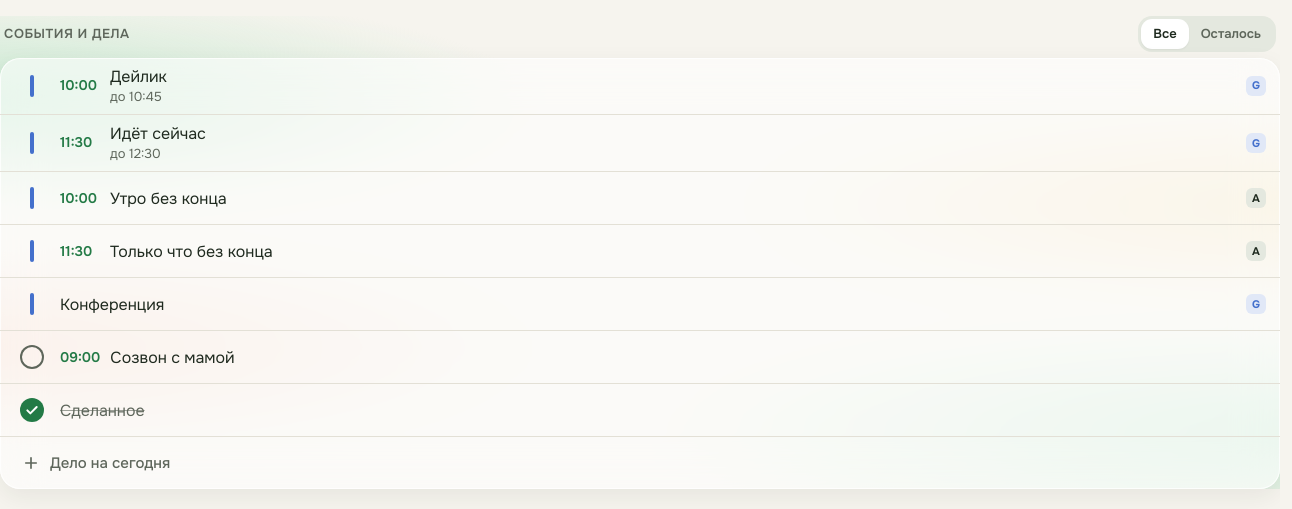
Test: «Все · Осталось» › прошедшие события из календаря уходят; идущие, «на весь день» и свои несделанные — остаются
Click the button "Осталось" at (1231, 34), box [1189,19,1273,49]
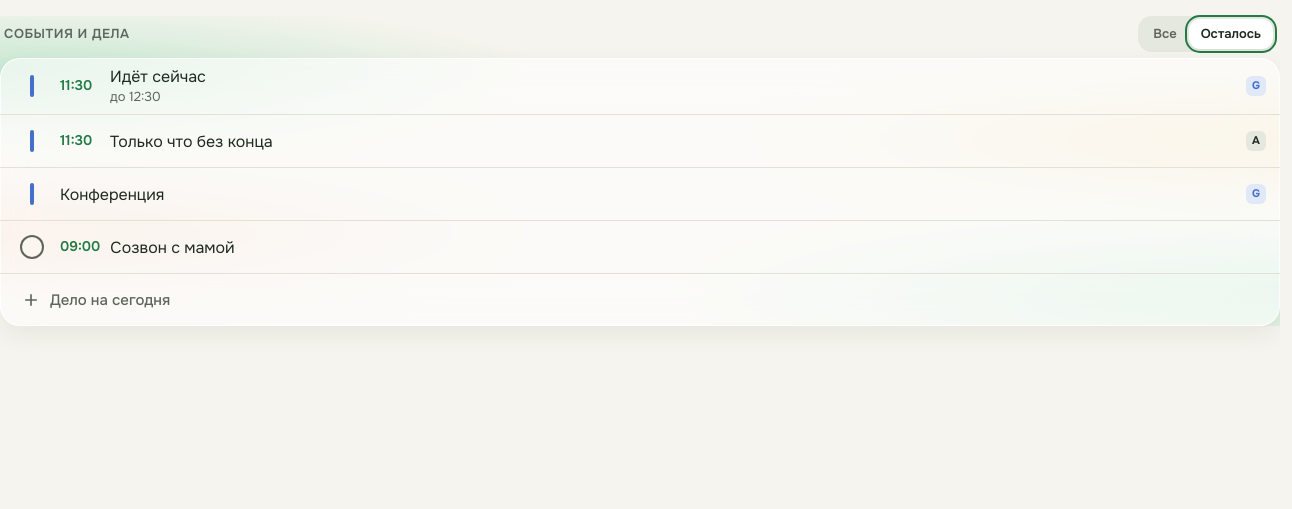
Expected: the text "Идёт сейчас" is shown, [110,66,206,87]
Expected: the text "Только что без конца" is shown, [110,131,273,152]
Click the button "Все" at (1165, 34), box [1141,19,1189,49]
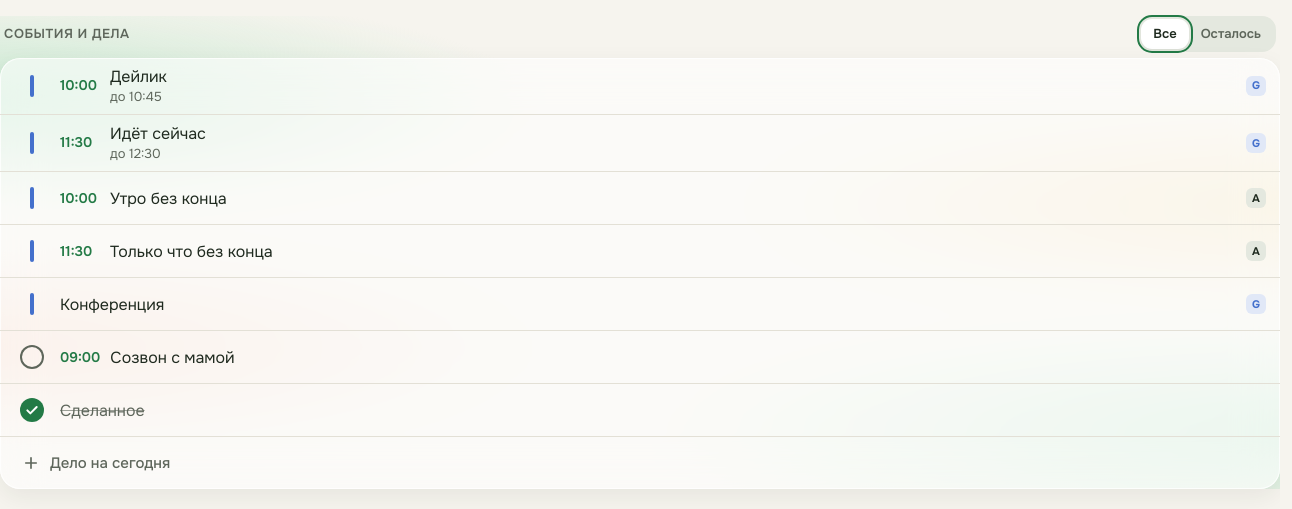
Expected: the text "Дейлик" is shown, [110,66,167,87]
